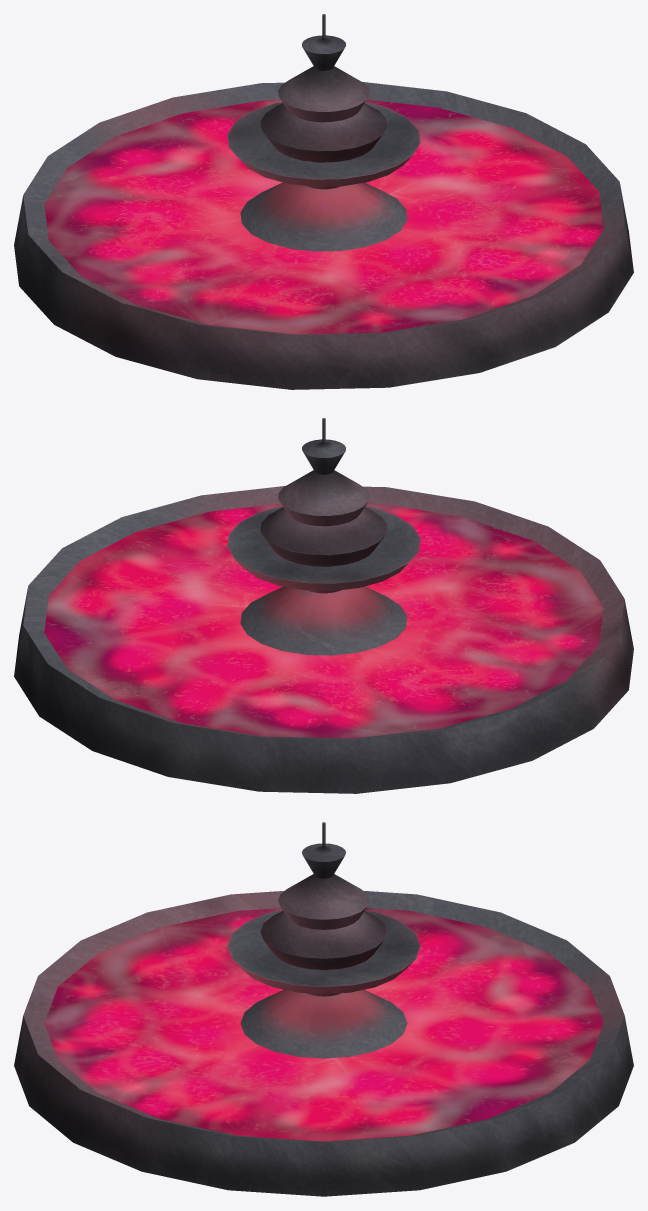
File: Fauntain_map.fbx
3 renders of one model, top to bottom at view 1: azimuth 30°, elevation 25°; view 2: azimuth 150°, elevation 25°; view 3: azimuth 270°, elevation 25°, orthographic.
Parts seen in each view (by area): view 1: Fountain; view 2: Fountain; view 3: Fountain.
Part boxes in pixels (x1=…): Fountain: x1=14, y1=14, x2=633, y2=389; Fountain: x1=14, y1=418, x2=633, y2=793; Fountain: x1=14, y1=822, x2=633, y2=1196.
Bounding box in the file's own units: 795 × 344 × 795.
1 material, 1 textured.
